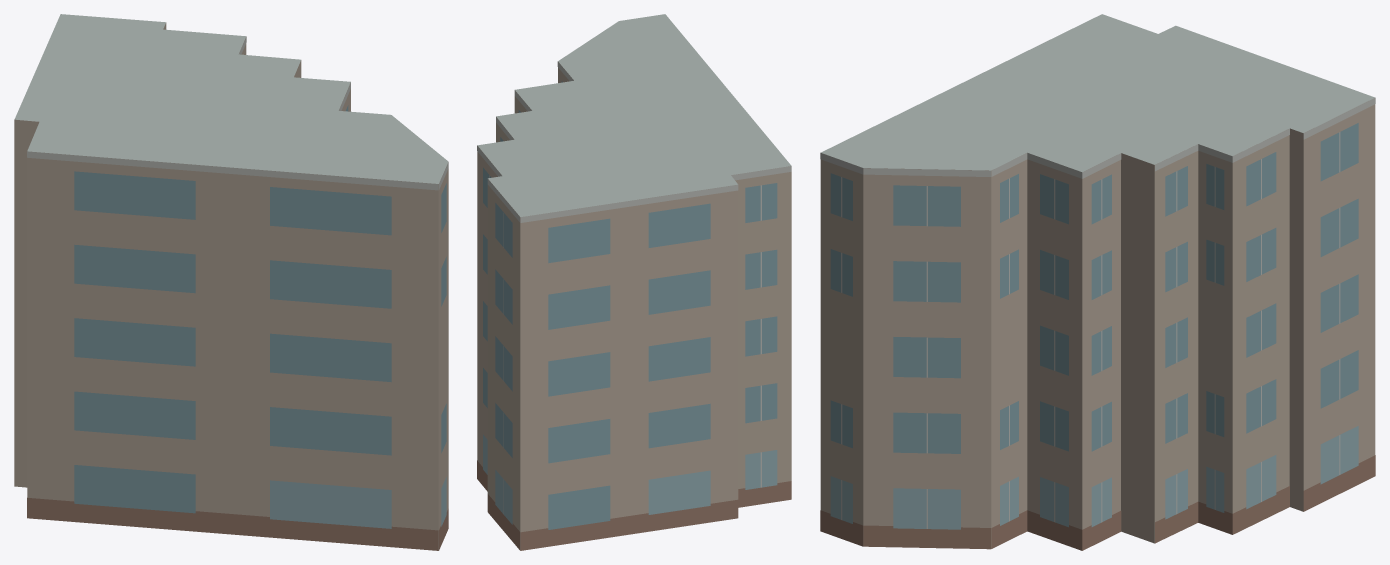
The model's file is survey-upis-32655860.glb.
The picture shows the model from 3 angles, left to right: view 1: azimuth 30°, elevation 25°; view 2: azimuth 150°, elevation 25°; view 3: azimuth 270°, elevation 25°; orthographic projection. The views are drawn at different scales.
Parts seen in each view (by area): view 1: survey-upis-32655860.tmp; view 2: survey-upis-32655860.tmp; view 3: survey-upis-32655860.tmp.
Boxes of the visible parts, left/top/right/bottom form: survey-upis-32655860.tmp: left=14, top=14, right=448, bottom=550; survey-upis-32655860.tmp: left=477, top=14, right=791, bottom=550; survey-upis-32655860.tmp: left=820, top=14, right=1375, bottom=550.
Size of the model in its own units: 12.51 by 13.95 by 18.53.
